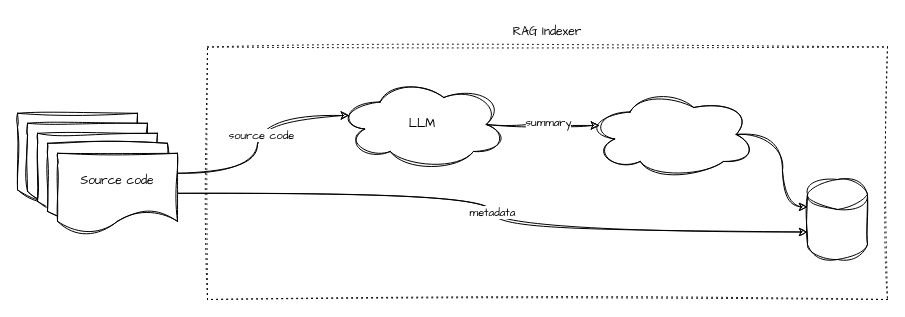
Some shapes in this 905 by 317 pixel diagram are drawn without their labels. Each missing label, with the box of its shape:
Embedding model: (586, 88, 758, 180)
Vector DB: (806, 178, 868, 260)
